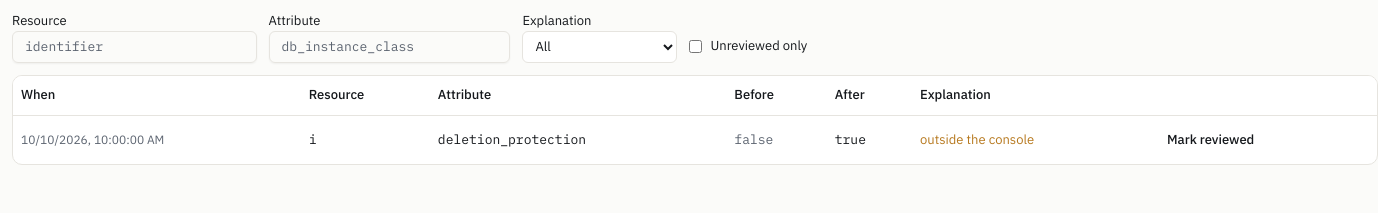
ChangesView › enables Mark reviewed again when the review could not be saved
What coordinates should you click on to do the following:
click the button "Mark reviewed"
I would click on:
 (1211, 140)
Its box is [1155,124,1266,156].
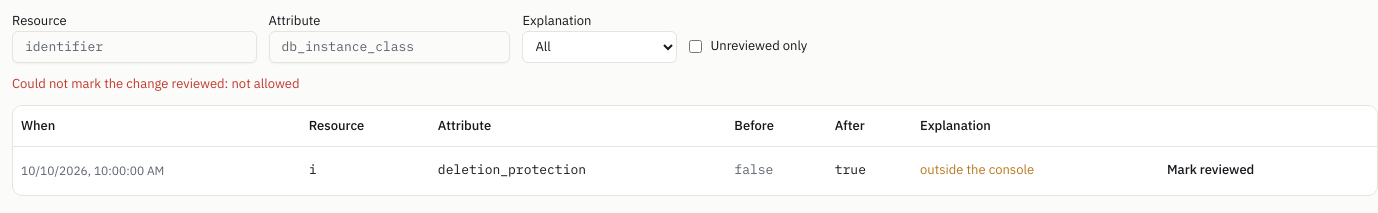
Expected: the button "Mark reviewed" is enabled, [1155,155,1266,187]
Now the message "Could not mark the change reviewed: not allowed" is shown, box [12,75,300,92]
